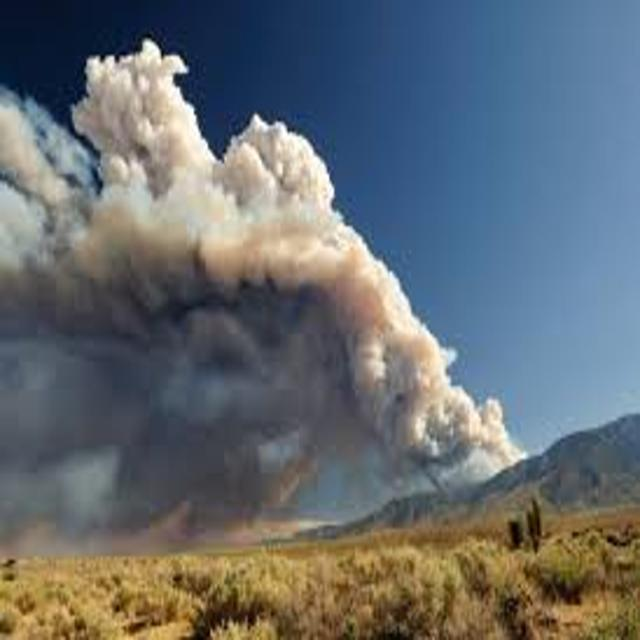Smoke: (2, 253, 376, 452), (80, 45, 369, 257), (0, 449, 360, 536), (378, 368, 526, 501), (0, 78, 75, 256), (354, 256, 464, 366)
